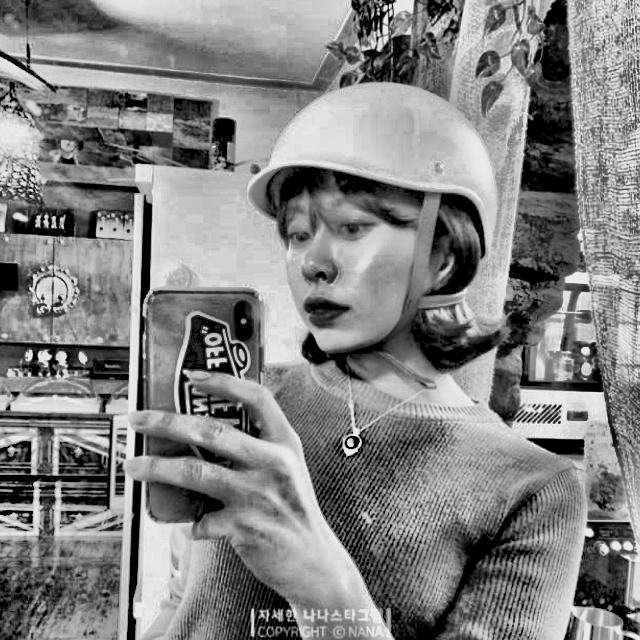Helmet: (250, 67, 516, 380)
